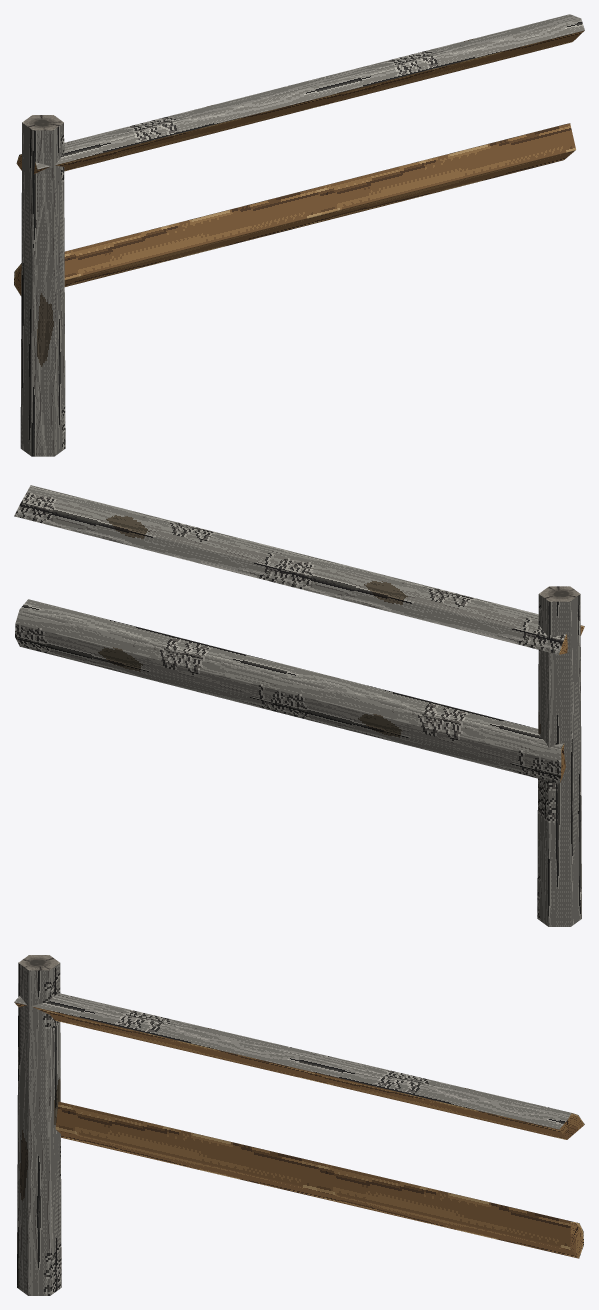
The model's file is STRUCT_Fence_Straight_01.glb.
3 views of the same model, one above another, from view 1: azimuth 30°, elevation 25°; view 2: azimuth 150°, elevation 25°; view 3: azimuth 330°, elevation 25° (orthographic).
Visible parts, largest first — view 1: STRUCT_Fence_Straight_01; view 2: STRUCT_Fence_Straight_01; view 3: STRUCT_Fence_Straight_01.
Part boxes in pixels (x1=…): STRUCT_Fence_Straight_01: x1=14, y1=14, x2=584, y2=456; STRUCT_Fence_Straight_01: x1=14, y1=485, x2=584, y2=926; STRUCT_Fence_Straight_01: x1=14, y1=955, x2=584, y2=1295.
Bounding box in the file's own units: 2.12 × 1.2 × 0.1676.
4 materials, 4 textured.
